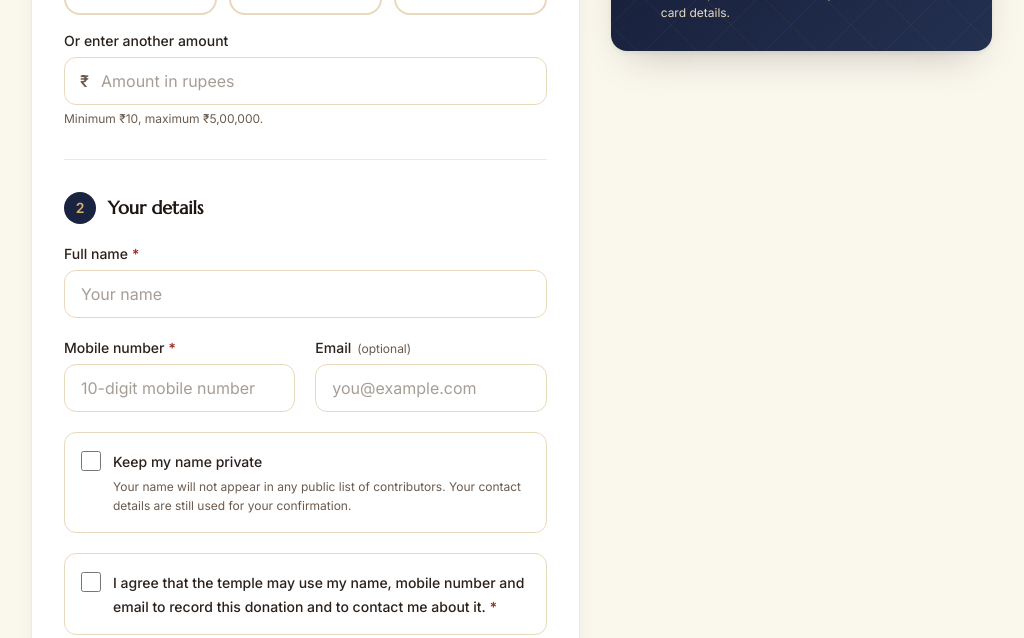
Scenario: Demo payment flow › cancels from the payment page with an inline confirmation
(page scrolled)
Type "Ram Kumar" into the field labelled "Full name*".
click(305, 294); type("Ram Kumar")  # box [64,270,547,318]
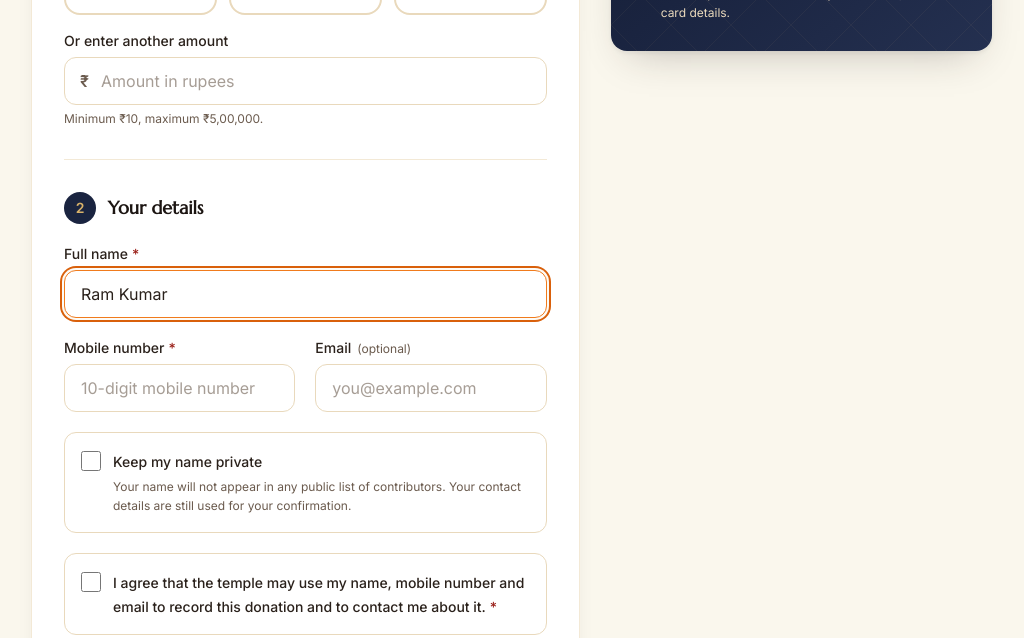
Type "9876543210" into the field labelled "Mobile number*".
click(180, 388); type("9876543210")  # box [64,364,295,412]
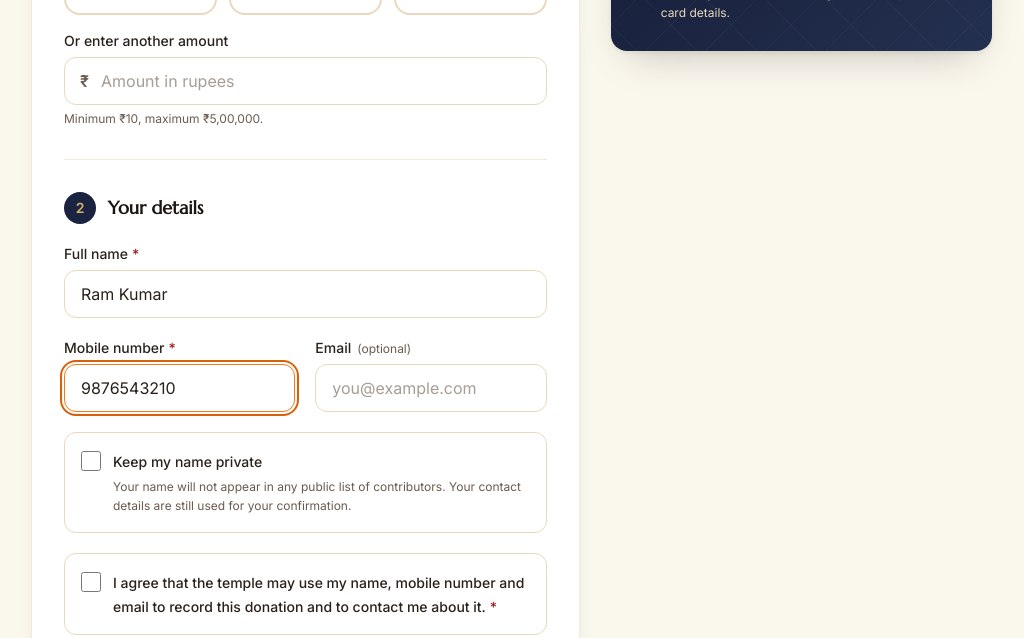
Click the checkbox labelled "I agree that the temple".
click(91, 582)  # box [81,572,101,592]
(page scrolled)
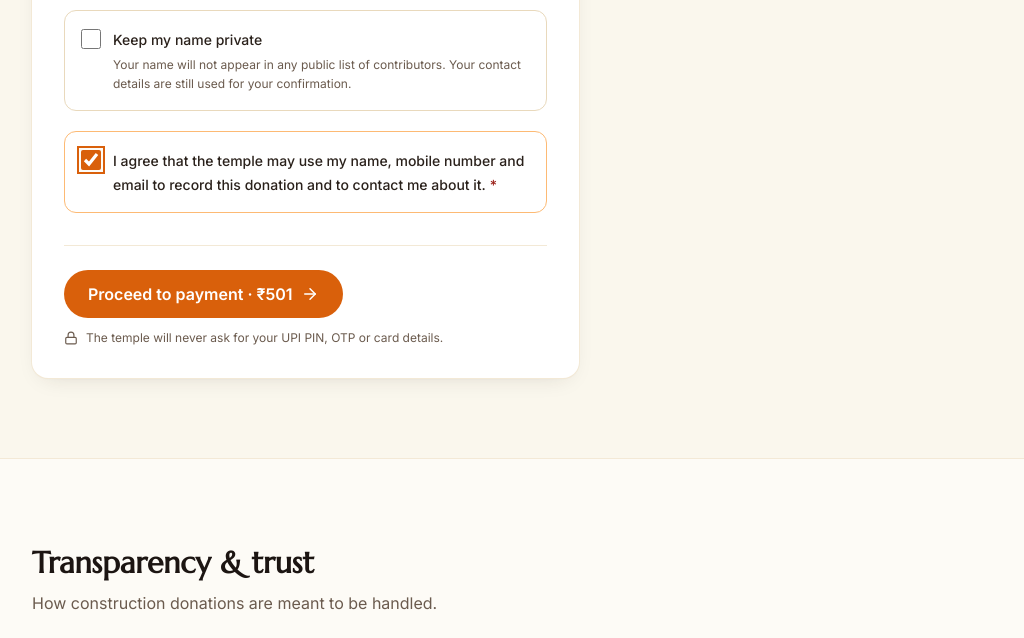
Click the button "Proceed to payment · ₹501".
click(203, 294)  # box [64,270,343,318]
(page scrolled)
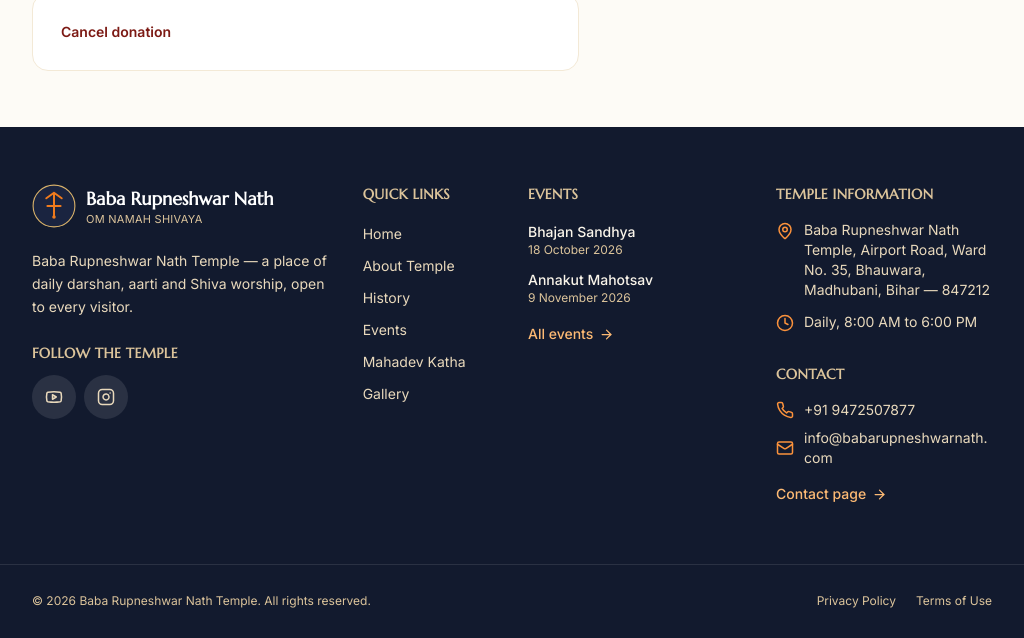
Click the button "Cancel donation".
click(116, 32)  # box [49,10,183,54]
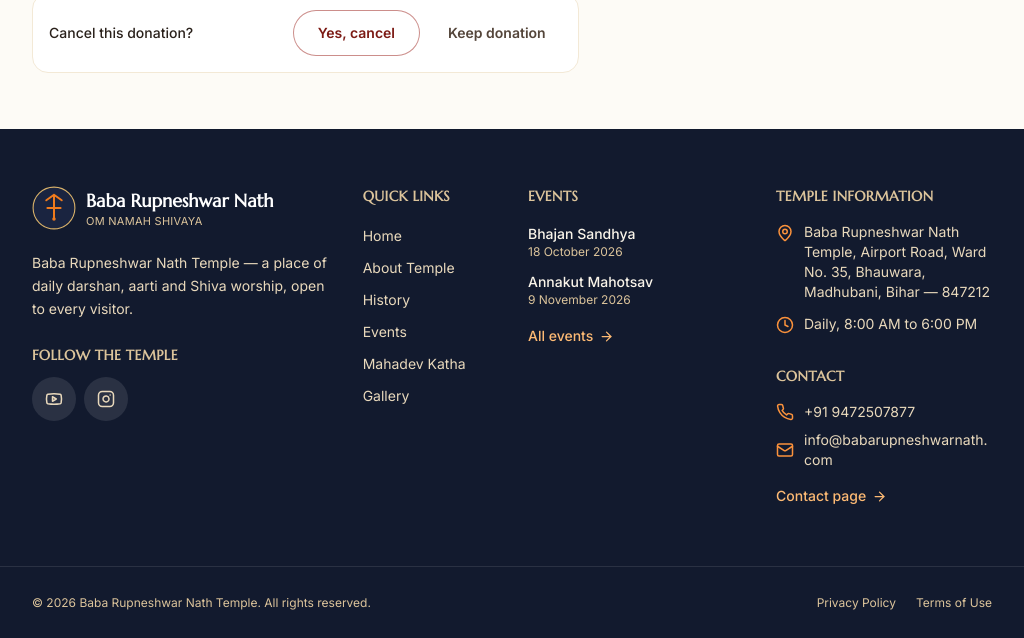
Click the button "Yes, cancel".
click(356, 33)  # box [293,10,420,56]
(page scrolled)
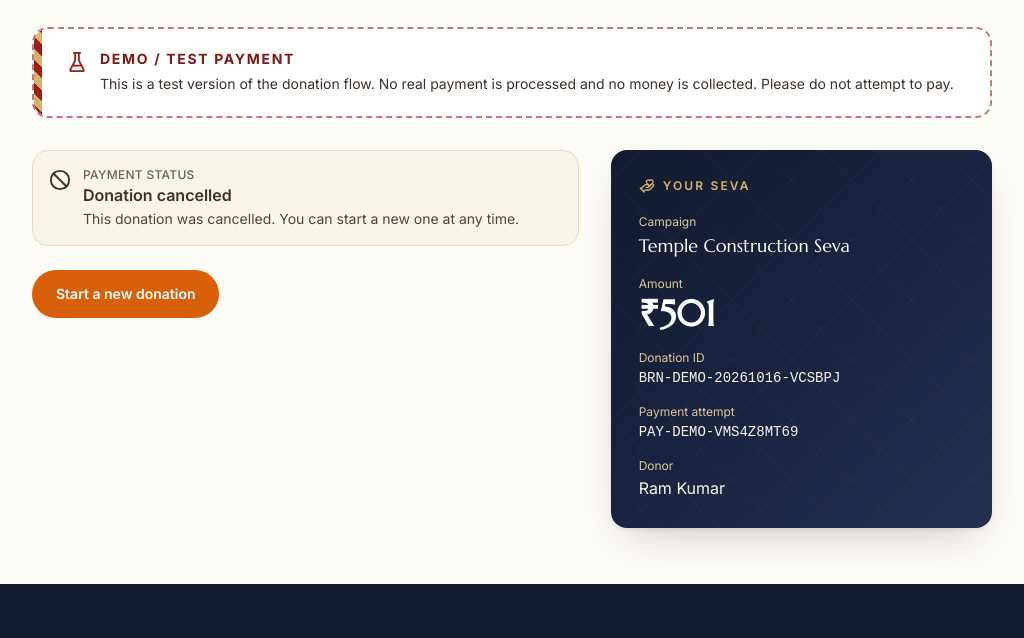
Check: the text "Donation cancelled" is shown, box [83,185,232,205]
